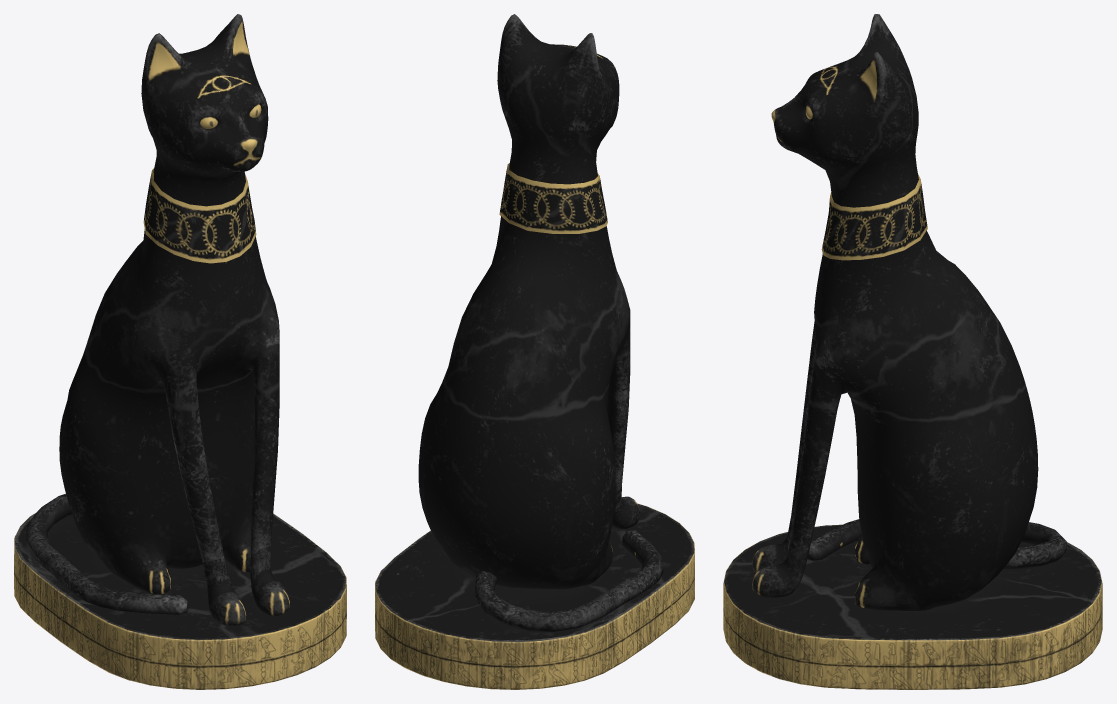
The model's file is egyptian-cat-statue.glb.
The picture shows the model from 3 angles, left to right: view 1: azimuth 30°, elevation 25°; view 2: azimuth 150°, elevation 25°; view 3: azimuth 270°, elevation 25°; orthographic projection. The views are drawn at different scales.
Visible parts, largest first — view 1: Cat_Statue; view 2: Cat_Statue; view 3: Cat_Statue.
Part boxes in pixels (x1,y1,x2,y2): Cat_Statue: [14, 14, 346, 689]; Cat_Statue: [375, 14, 694, 689]; Cat_Statue: [723, 14, 1102, 689].
Size of the model in its own units: 0.4047 by 0.9599 by 0.551.
Materials: 1 (1 with a texture image).
